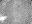person: (1, 15, 6, 21)
